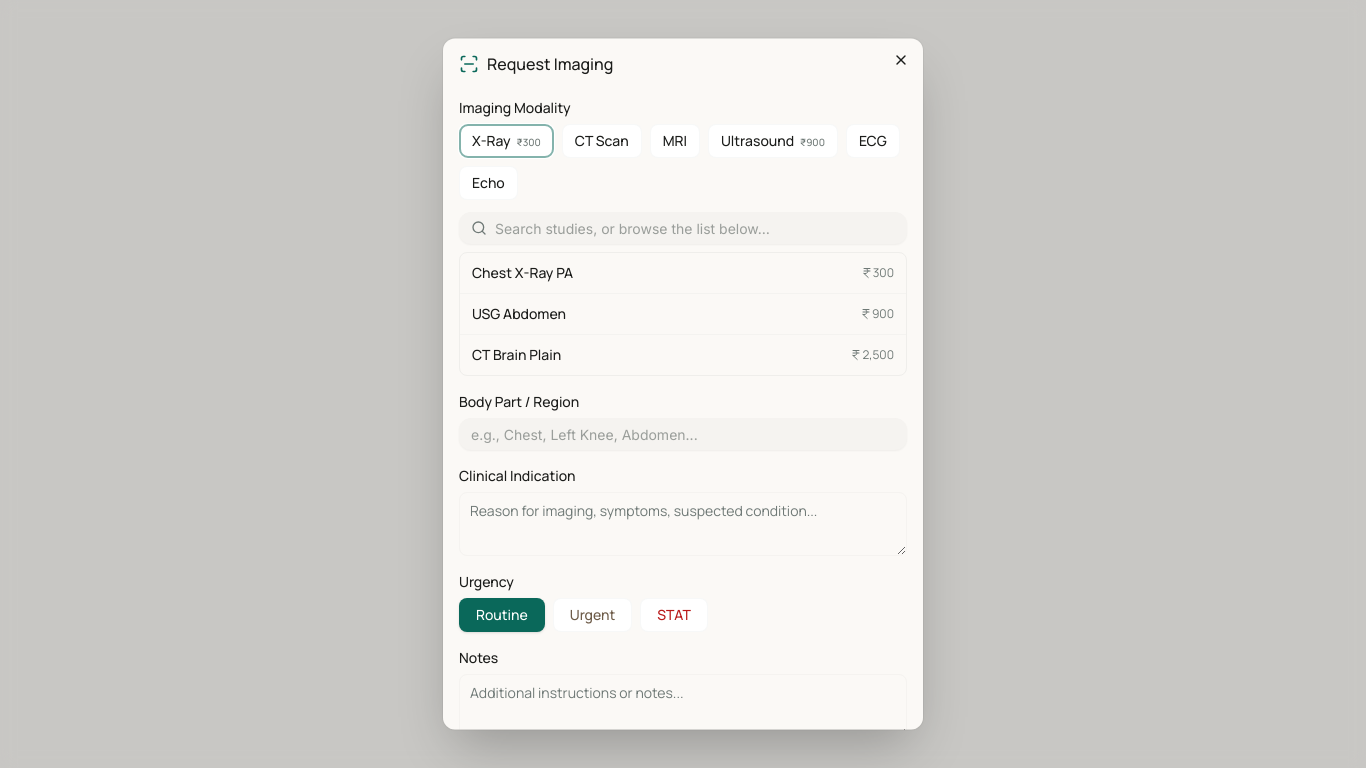
Test: the imaging study picker › matches on the modality label, not just the name
Type "ultrasound" into the field with placeholder "Search studies, or browse the list below…".
click(683, 228); type("ultrasound")  # box [459,212,907,244]
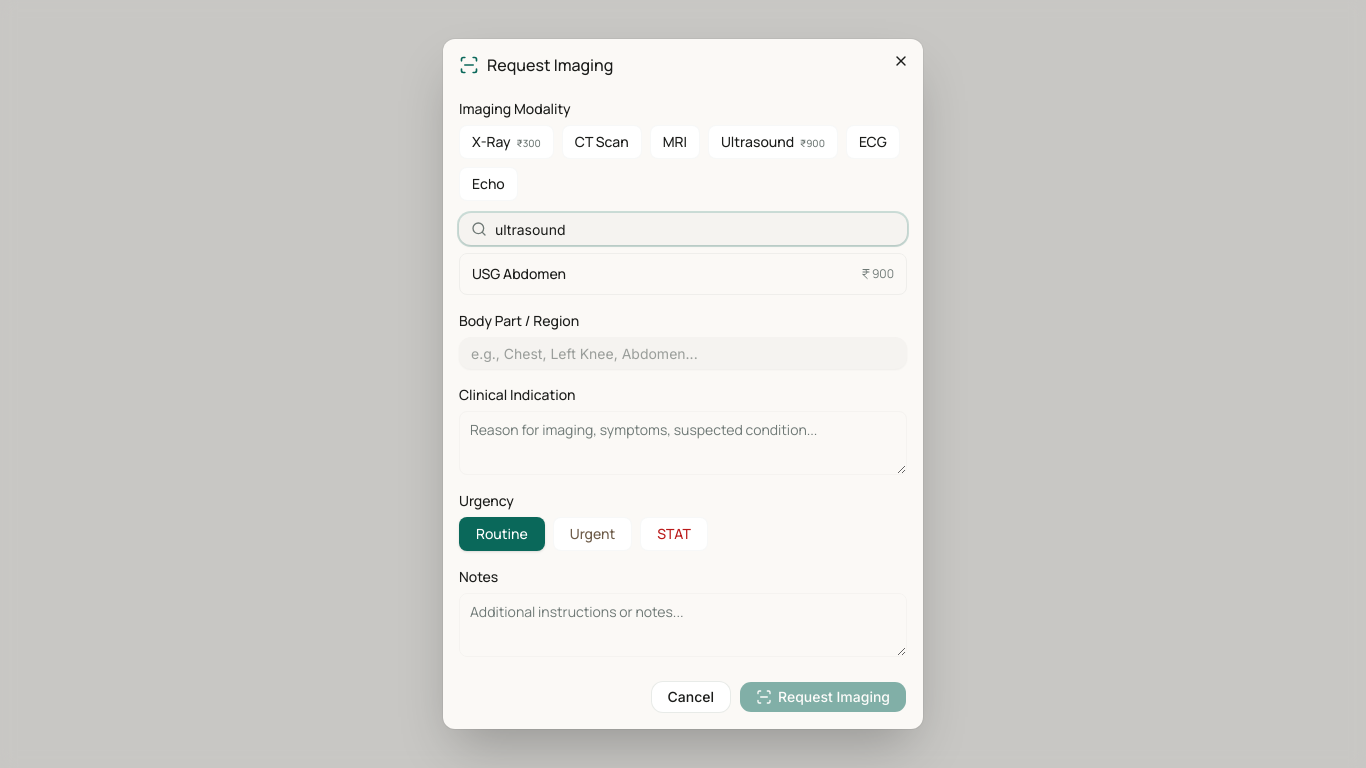
Expected: the text "USG Abdomen" is shown, [472,264,566,284]
Result: the button "CT Brain Plain" is gone
